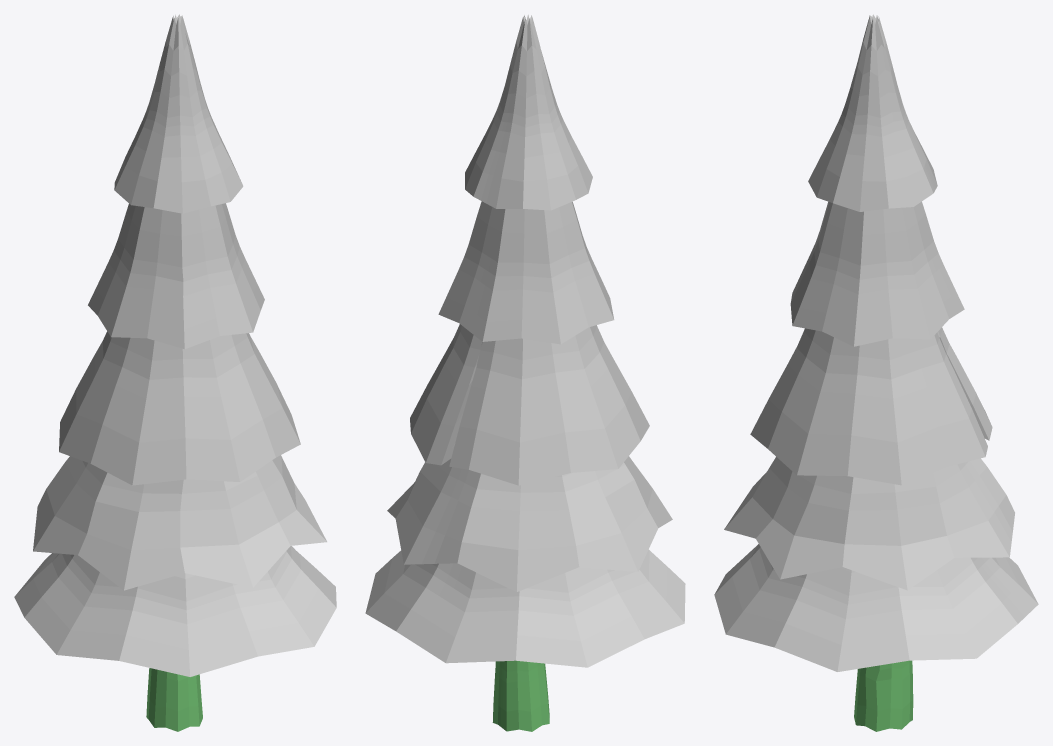
The model's file is copacbuninclinat1.fbx.
3 views of the same model, side by side, from view 1: azimuth 30°, elevation 25°; view 2: azimuth 150°, elevation 25°; view 3: azimuth 270°, elevation 25° (orthographic).
Visible parts, largest first — view 1: Circle; view 2: Circle; view 3: Circle.
Part boxes in pixels (bbox=[...]): Circle: bbox=[14, 14, 336, 731]; Circle: bbox=[365, 14, 685, 731]; Circle: bbox=[714, 14, 1038, 731].
Size of the model in its own units: 705 by 1706 by 713.
